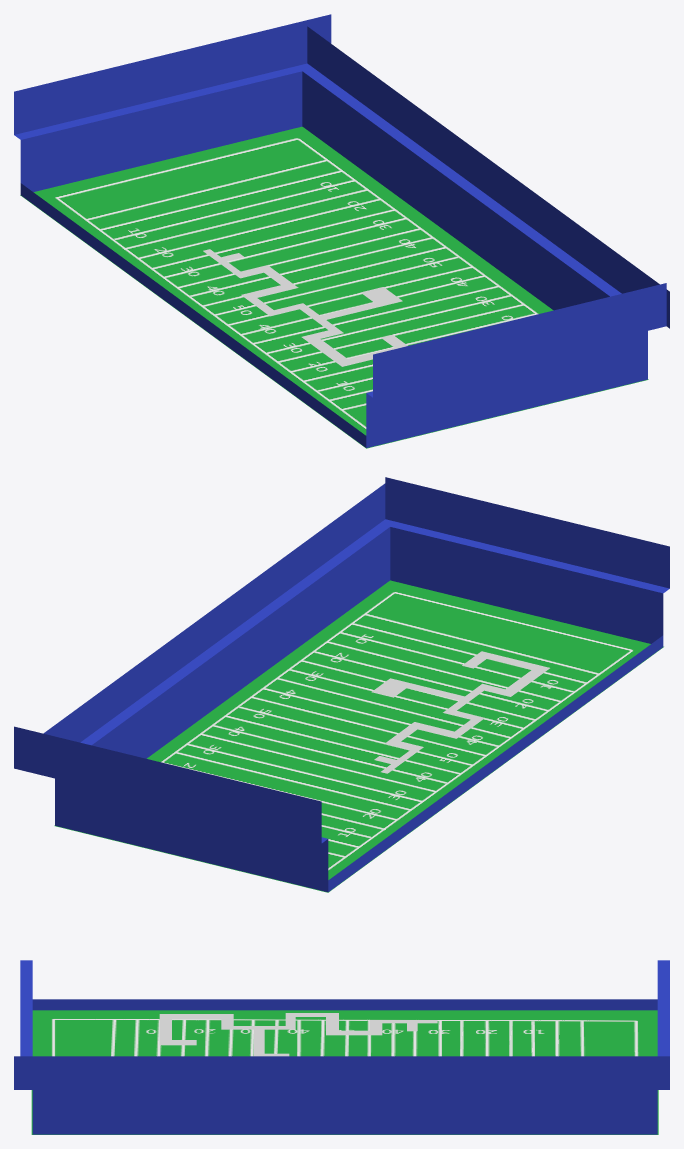
File: maze.glb
3 views of the same model, one above another, from view 1: azimuth 30°, elevation 25°; view 2: azimuth 150°, elevation 25°; view 3: azimuth 270°, elevation 25° (orthographic). The views are drawn at different scales.
Parts seen in each view (by area): view 1: stadium, ground; view 2: stadium, ground; view 3: stadium, ground, Plane.012, Plane.013.
Part boxes in pixels (<box>): stadium: <box>14,14,669,447</box>; ground: <box>20,126,648,448</box>; stadium: <box>14,477,669,892</box>; ground: <box>54,580,663,892</box>; stadium: <box>14,960,669,1134</box>; ground: <box>31,1010,658,1134</box>; Plane.012: <box>159,1014,221,1019</box>; Plane.013: <box>159,1019,171,1045</box>.
Bounding box in the file's own units: 53.66 × 15.92 × 106.
2 materials, 2 textured.
